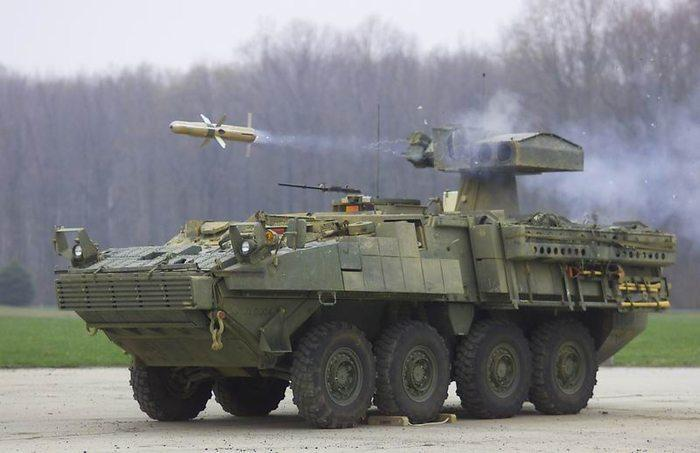MIL_IFV: (51, 105, 681, 427)
